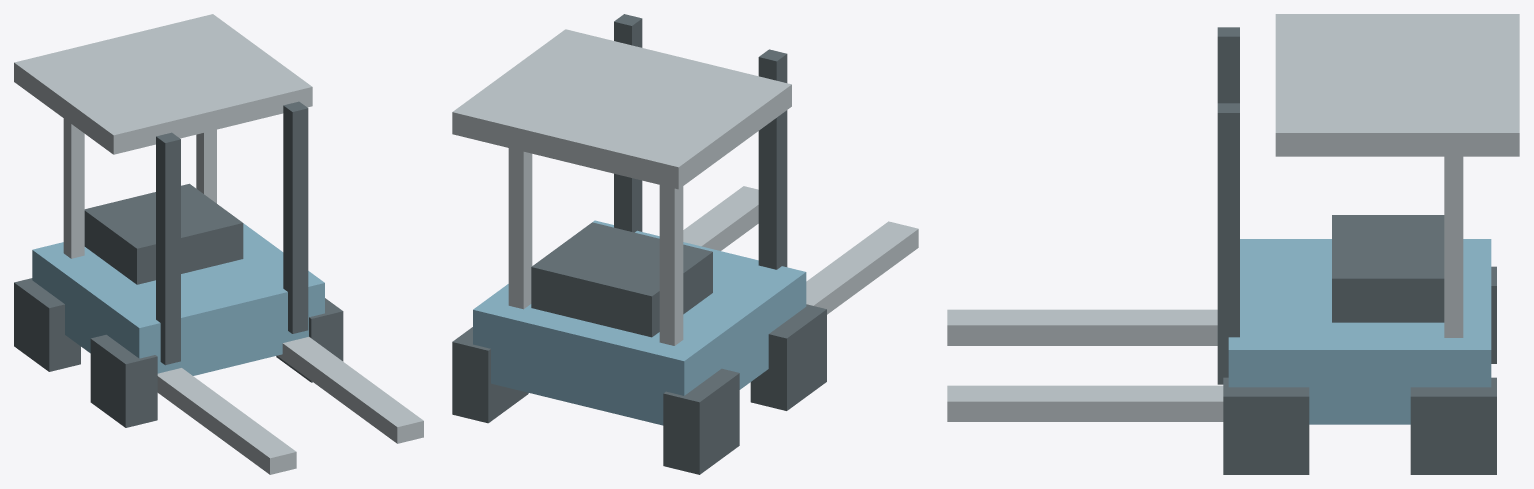
File: forklift.glb
3 renders of one model, left to right at view 1: azimuth 30°, elevation 25°; view 2: azimuth 150°, elevation 25°; view 3: azimuth 270°, elevation 25°, orthographic. The views are drawn at different scales.
Bounding box in the file's own units: 0.82 × 1 × 1.53.
